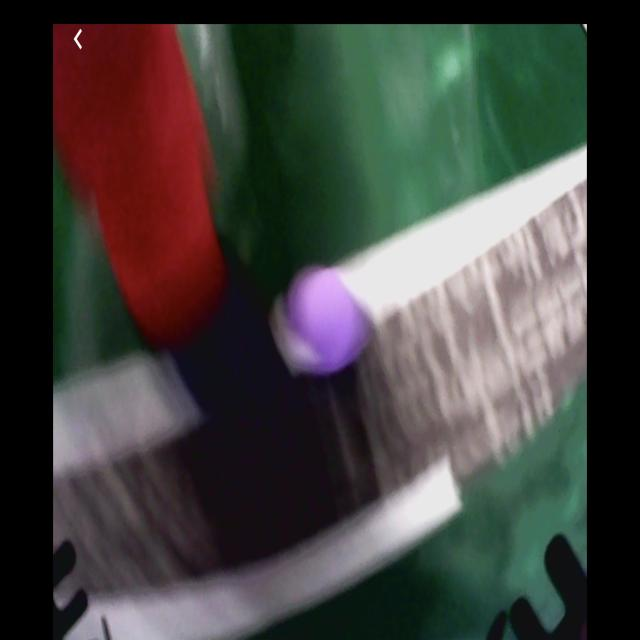ball: (292, 269, 360, 365)
